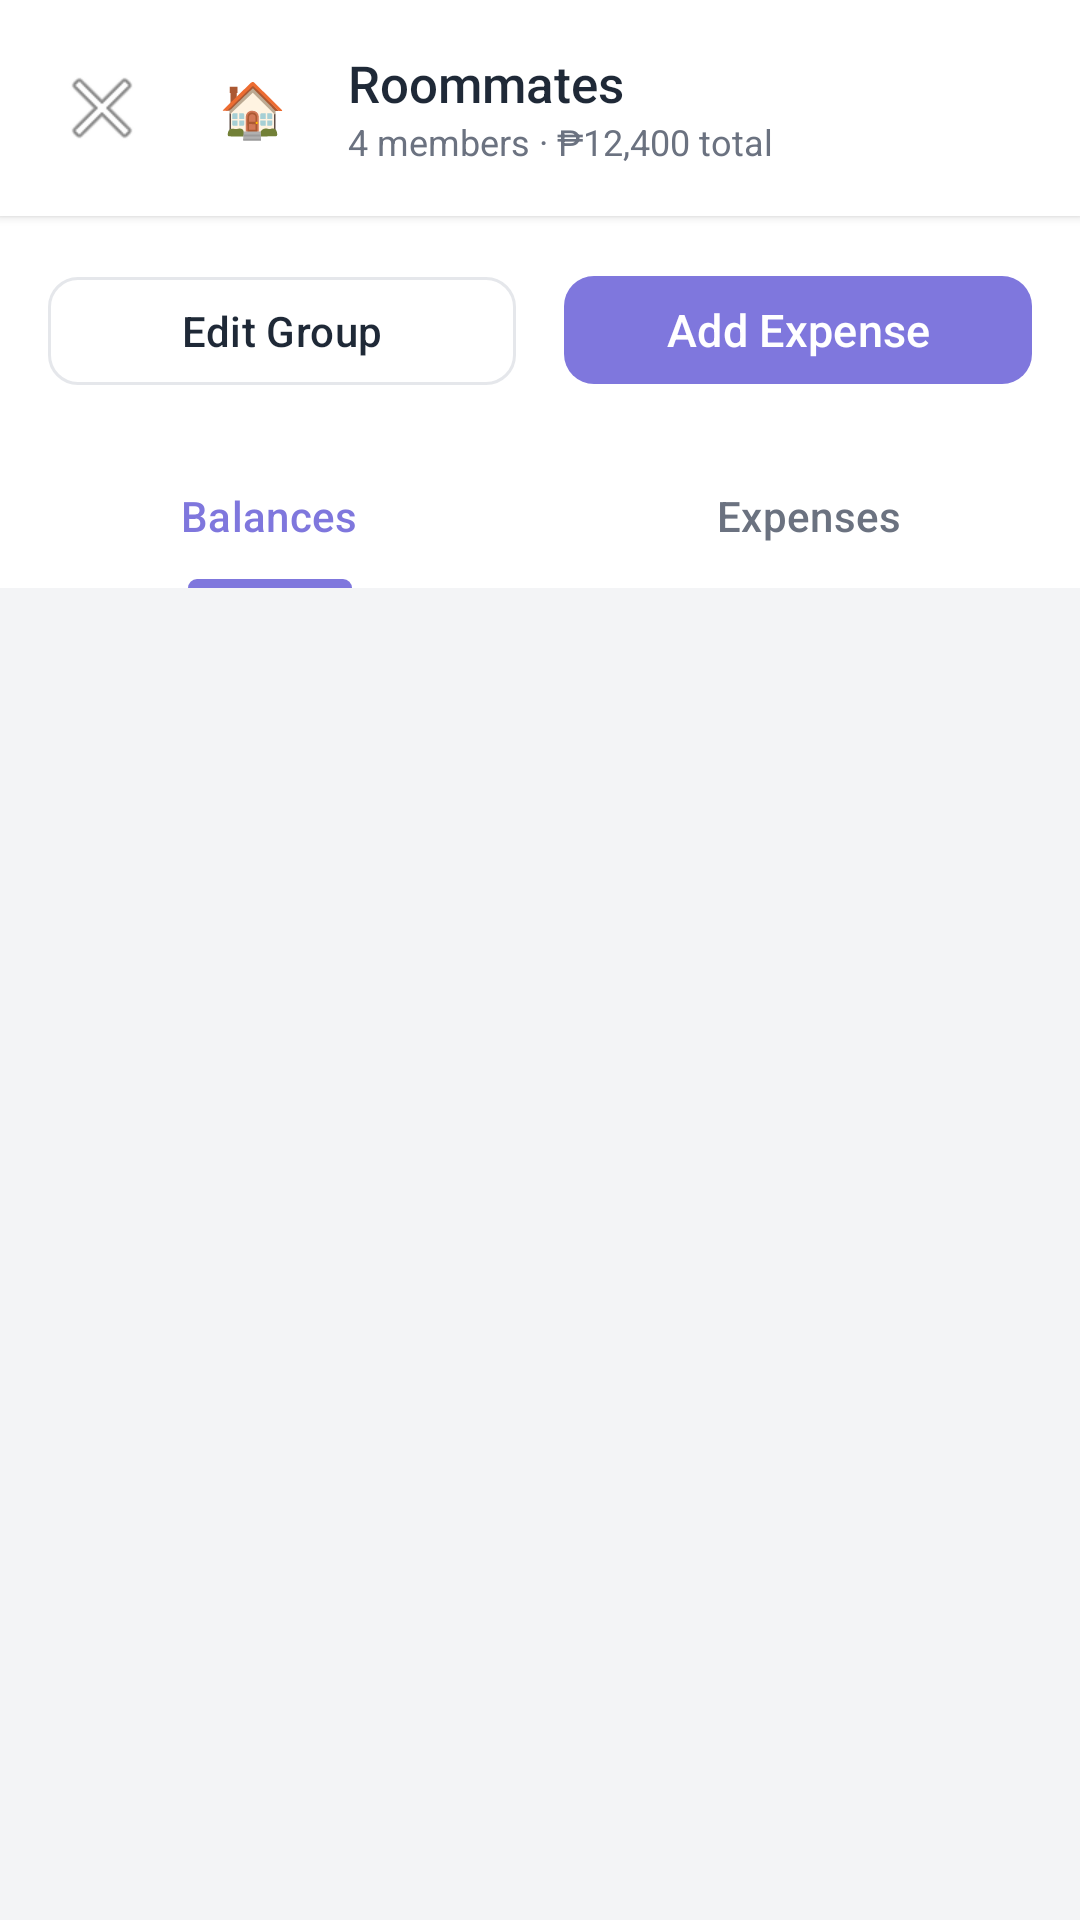

Named icons in this screenshot (1080w x 1920h) and their centers, [x,y]:
Back: [102,108]
